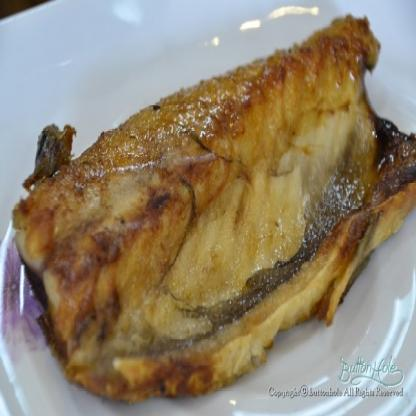Peixe: (0, 5, 415, 416)
